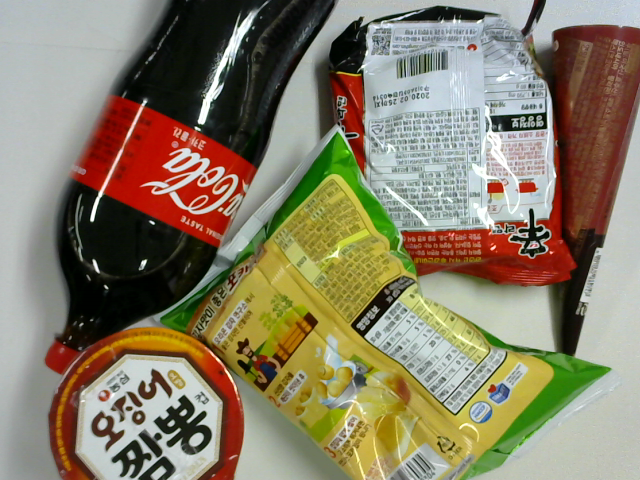Coca_Cola_1.5L: (48, 1, 337, 376)
Ojjam: (52, 328, 244, 480)
Pocachip_Onion: (155, 131, 613, 480)
Sinramen: (331, 3, 561, 286)
World_Cone_Choco: (551, 22, 640, 352)
